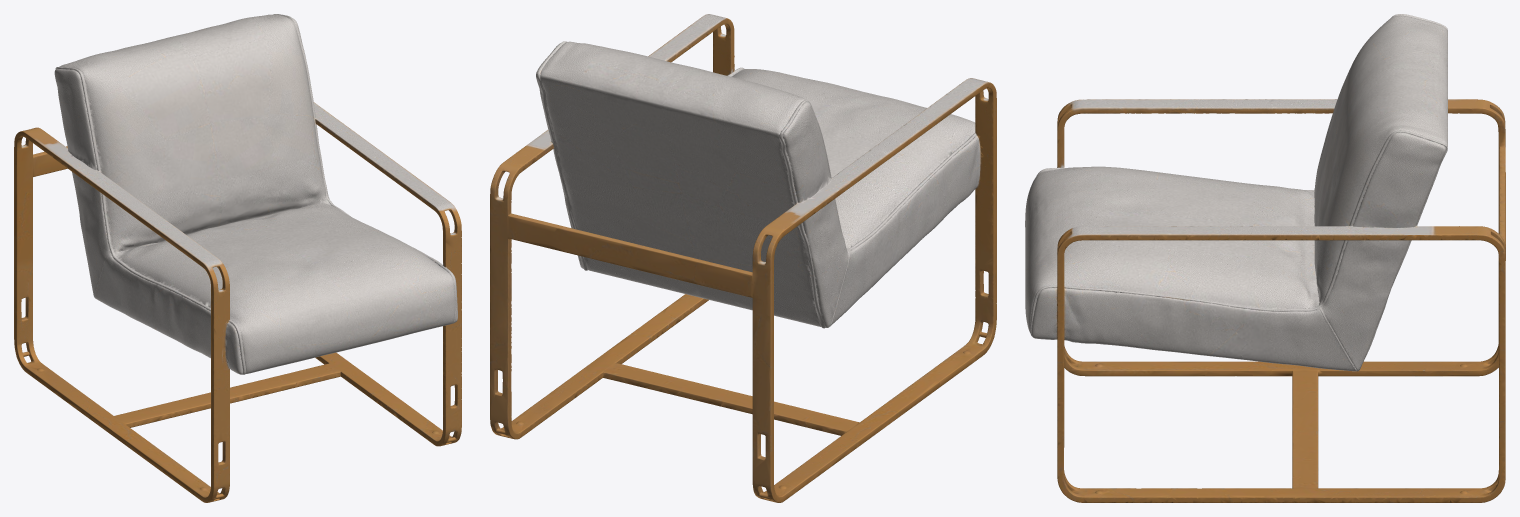
Rendered from studio-noir-chair.glb.
The picture shows the model from 3 angles, left to right: view 1: azimuth 30°, elevation 25°; view 2: azimuth 150°, elevation 25°; view 3: azimuth 270°, elevation 25°; orthographic projection. The views are drawn at different scales.
Parts seen in each view (by area): view 1: mesh_node; view 2: mesh_node; view 3: mesh_node.
Part boxes in pixels (bbox=[...]): mesh_node: bbox=[14, 14, 461, 502]; mesh_node: bbox=[490, 14, 996, 502]; mesh_node: bbox=[1025, 14, 1505, 502].
Bounding box in the file's own units: 1.27 × 1.59 × 1.9.
Materials: 1 (1 with a texture image).
